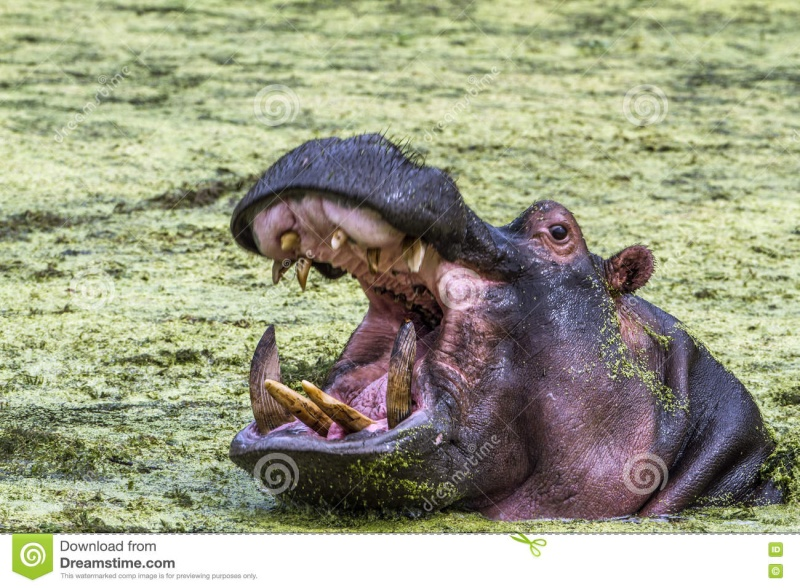hipopotamo: (204, 124, 781, 523)
